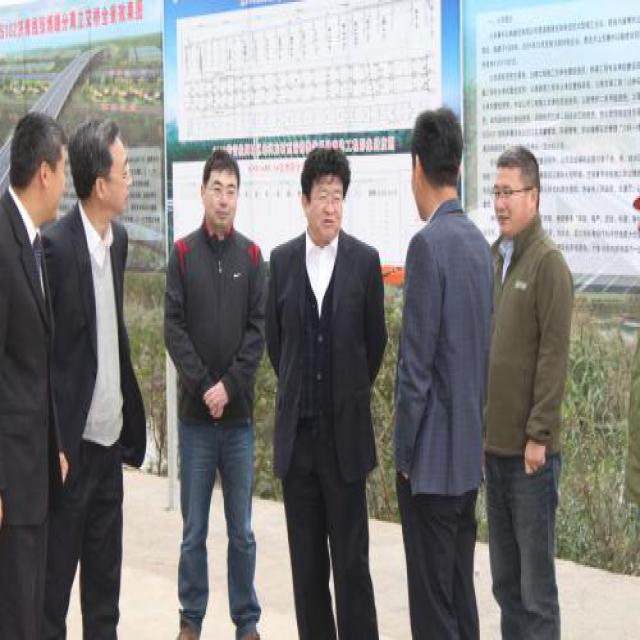head: (10, 105, 74, 230), (407, 97, 467, 222), (61, 118, 130, 226), (295, 141, 353, 243), (488, 140, 547, 240), (197, 142, 244, 238)
person: (258, 135, 403, 640), (376, 92, 506, 636), (471, 134, 597, 640), (157, 133, 281, 640), (61, 105, 154, 640)
